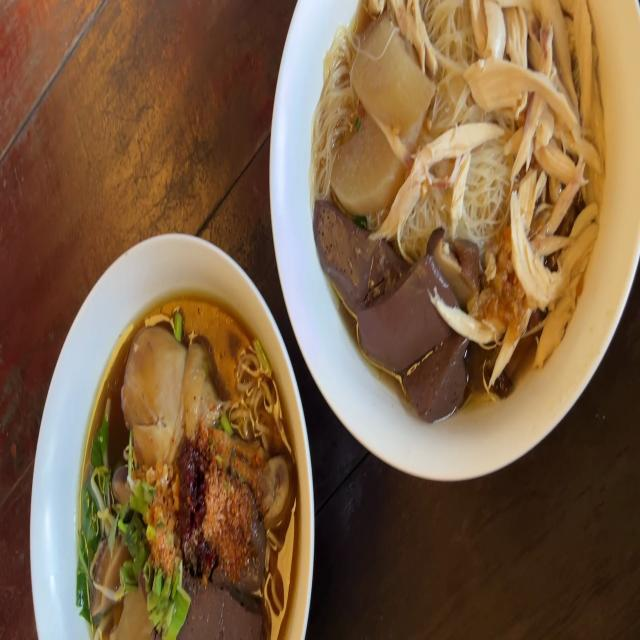noodle: (319, 209, 401, 309), (363, 262, 438, 364), (178, 580, 267, 638), (418, 343, 462, 418)
